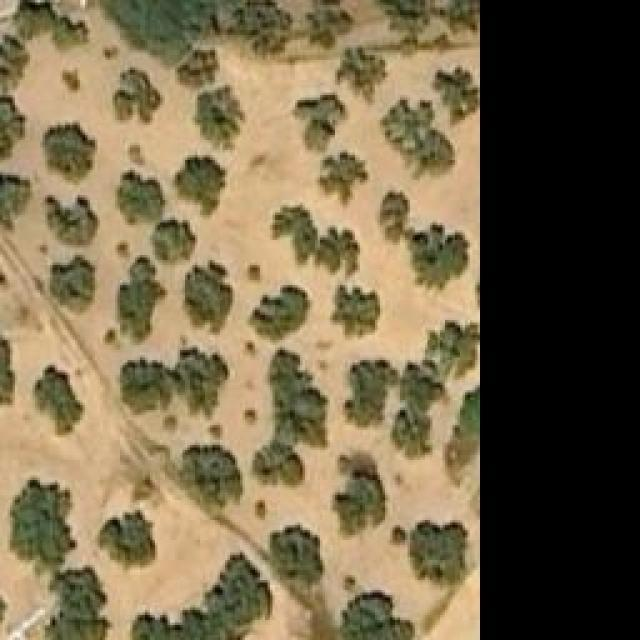Tree: (128, 552, 273, 640), (250, 348, 325, 488), (95, 0, 253, 50), (377, 98, 455, 181), (10, 478, 75, 563), (40, 565, 113, 640), (115, 255, 168, 345), (410, 225, 470, 295), (180, 445, 244, 508), (95, 510, 158, 573), (183, 257, 233, 335), (335, 465, 385, 543), (13, 0, 88, 50), (337, 592, 415, 640), (227, 0, 295, 55), (348, 358, 398, 432), (170, 155, 228, 218), (115, 355, 177, 413), (43, 120, 98, 185), (245, 285, 310, 340), (410, 520, 465, 583), (35, 363, 83, 433), (445, 387, 478, 485), (178, 348, 229, 411), (113, 68, 163, 128), (338, 48, 388, 108), (428, 323, 482, 378), (268, 525, 321, 579), (318, 152, 369, 208), (293, 92, 341, 150), (330, 285, 380, 340), (198, 88, 243, 148), (115, 173, 166, 225), (433, 67, 478, 125), (370, 0, 435, 40), (268, 203, 318, 254), (150, 217, 199, 267), (317, 225, 366, 274), (48, 197, 98, 245), (398, 363, 445, 411), (295, 10, 353, 48), (50, 255, 95, 303), (380, 190, 420, 243), (390, 405, 431, 454), (0, 35, 28, 98), (0, 95, 25, 163), (0, 173, 30, 228), (175, 50, 215, 88), (435, 0, 478, 35), (0, 325, 15, 405), (62, 70, 80, 93)
